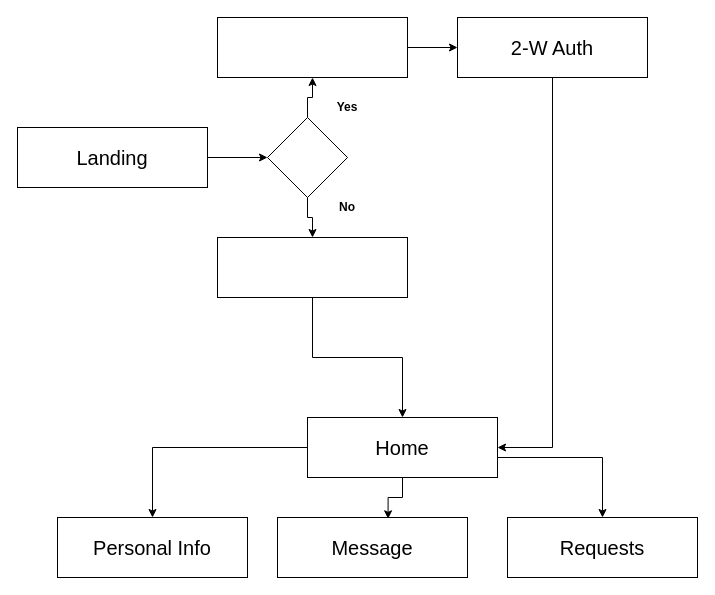
Some shapes in this 715 by 595 pixel diagram are drawn without their labels. Here are the shapes that lost their labels. From the top down, the centre of each, then its label:
the point at 312,47: Sign In
the point at 307,157: Already?
the point at 312,267: Sign Up
